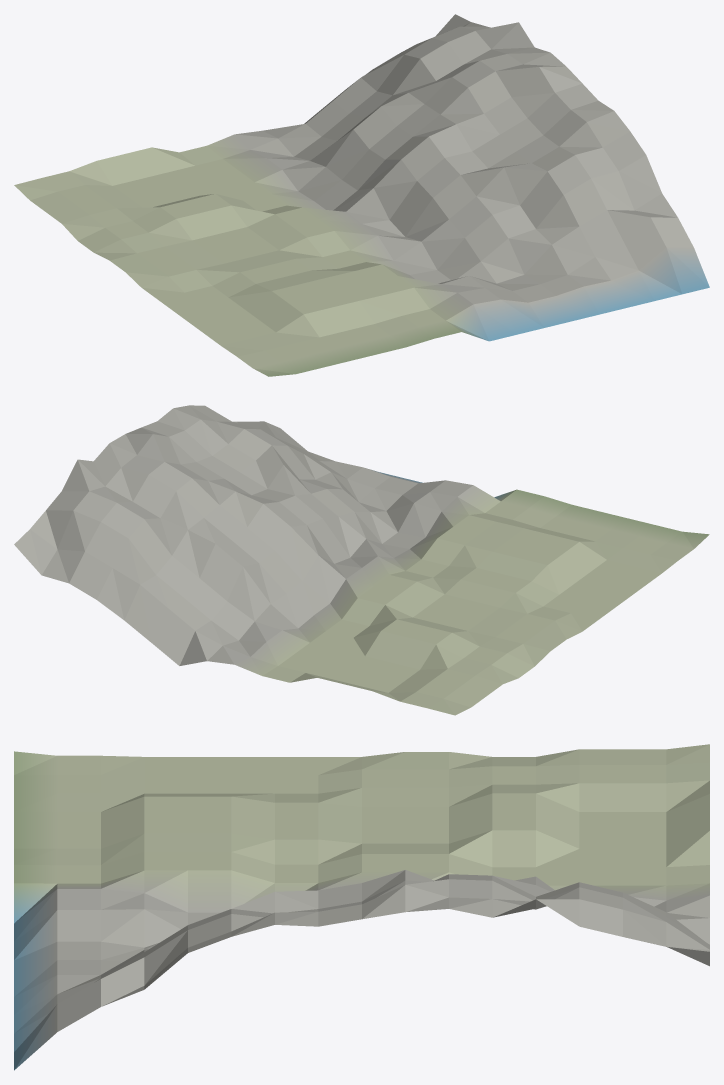
The picture shows the model from 3 angles, top to bottom: view 1: azimuth 30°, elevation 25°; view 2: azimuth 150°, elevation 25°; view 3: azimuth 270°, elevation 25°; orthographic projection. The views are drawn at different scales.
Bounding box in the file's own units: 32 × 8.7 × 32.
